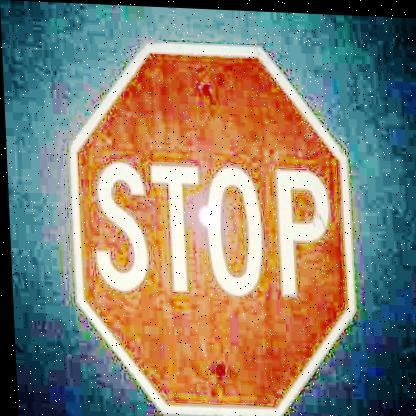Stop Sign: (61, 20, 363, 416)
